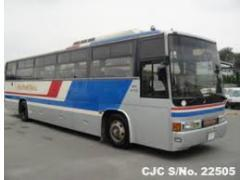bus: (5, 26, 228, 151)
